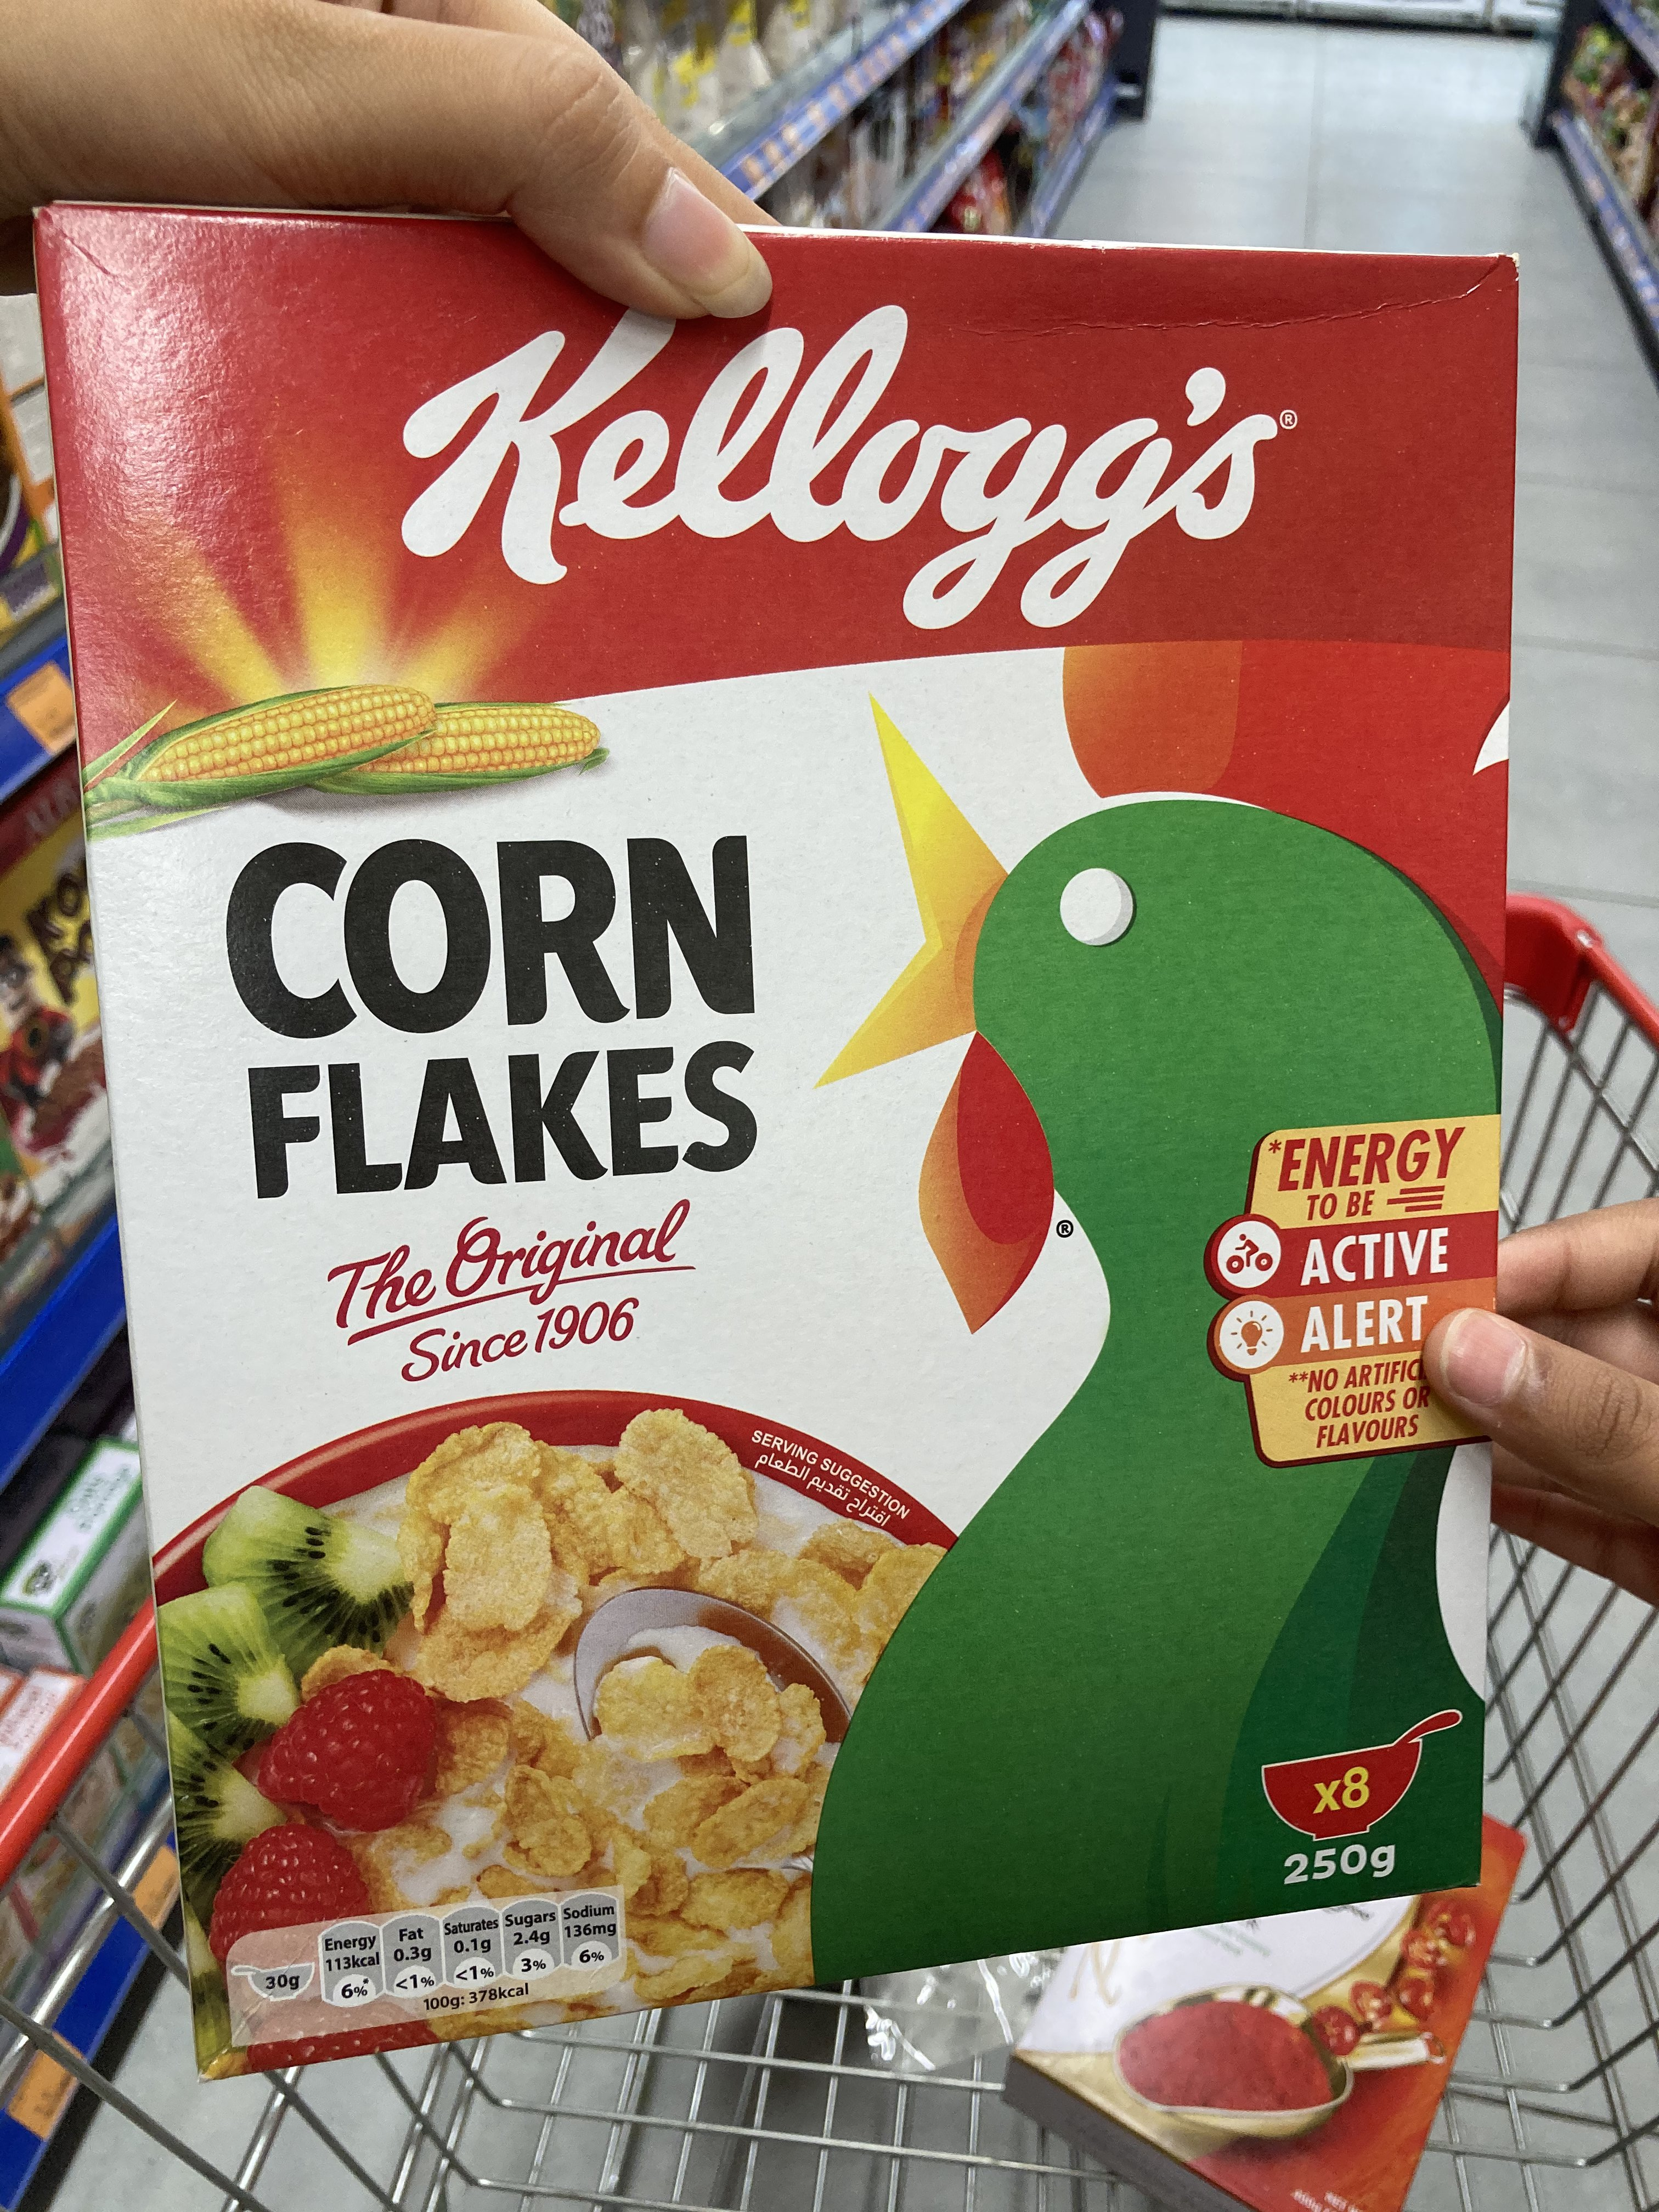Kellogg's Corn Flakes: (24, 190, 1530, 2080)
